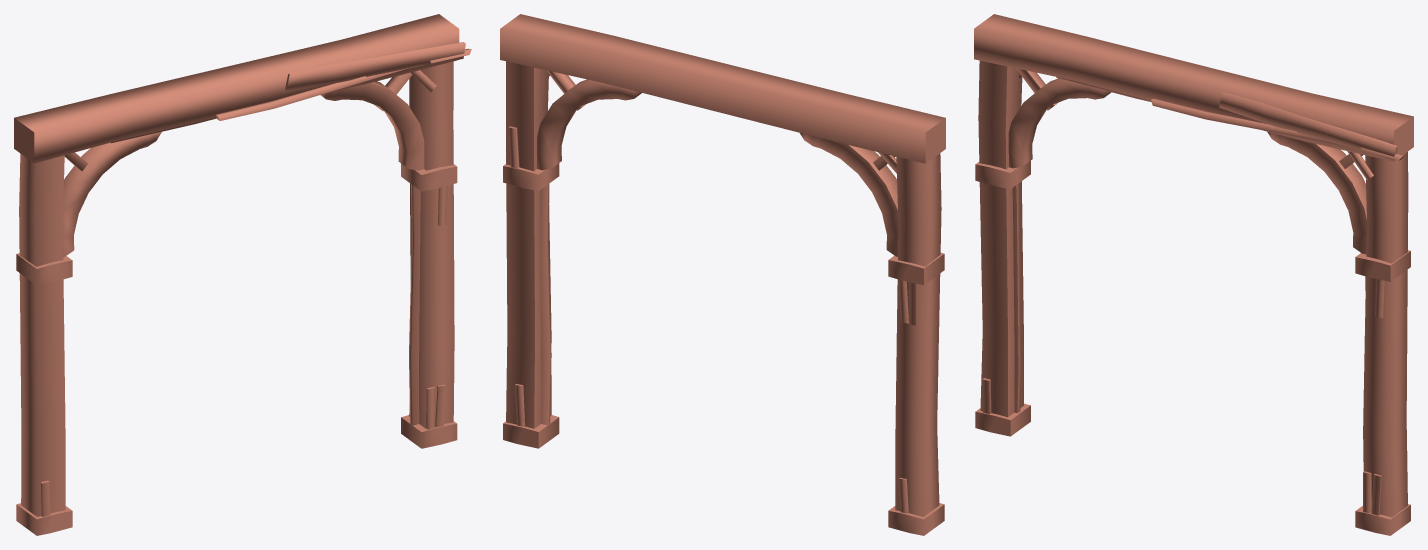
Rendered from support_beams_a.fbx.
3 views of the same model, side by side, from view 1: azimuth 30°, elevation 25°; view 2: azimuth 150°, elevation 25°; view 3: azimuth 330°, elevation 25° (orthographic).
Visible parts, largest first — view 1: Cube.130; view 2: Cube.130; view 3: Cube.130.
Part boxes in pixels (bbox=[...]): Cube.130: bbox=[14, 14, 471, 535]; Cube.130: bbox=[500, 14, 945, 535]; Cube.130: bbox=[974, 14, 1413, 535].
Size of the model in its own units: 5.42 by 4.89 by 0.5011.
